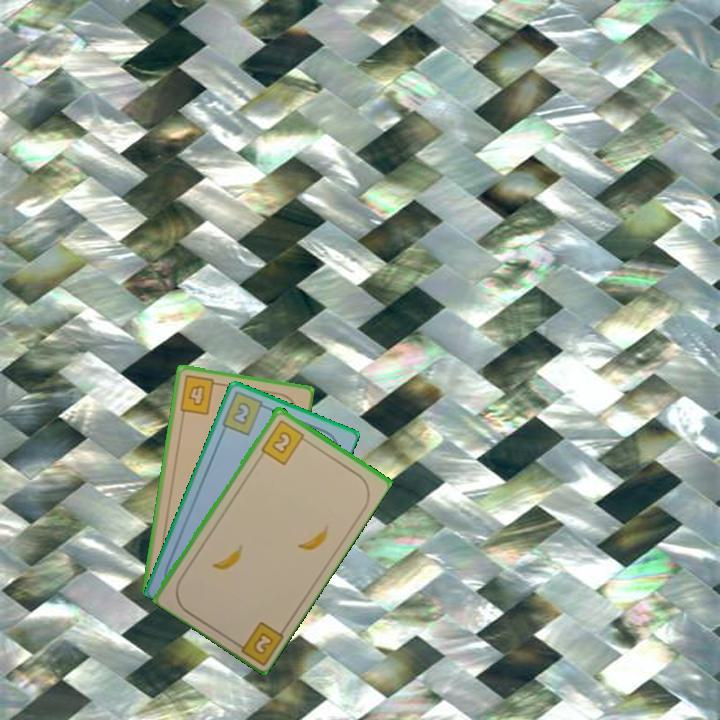2b: (229, 617, 286, 666), (257, 416, 311, 467), (218, 388, 272, 438)
4b: (176, 372, 223, 418)
